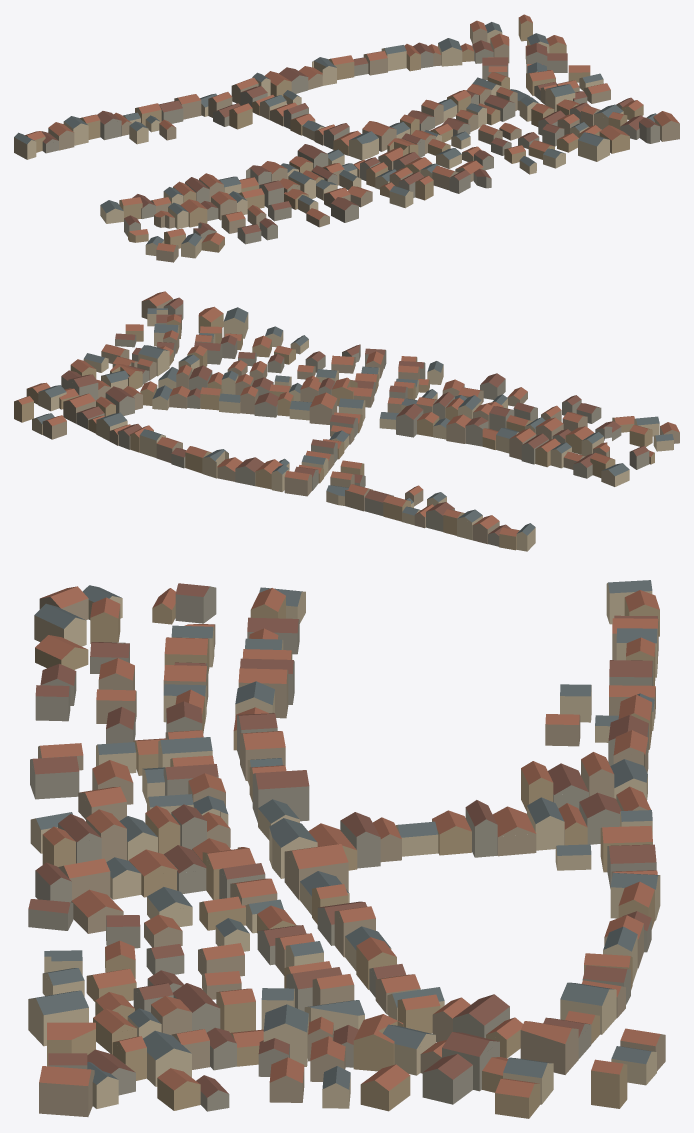
3 views of the same model, one above another, from view 1: azimuth 30°, elevation 25°; view 2: azimuth 150°, elevation 25°; view 3: azimuth 270°, elevation 25° (orthographic). The views are drawn at different scales.
Visible parts, largest first — view 1: C_2_3; view 2: C_2_3; view 3: C_2_3.
Boxes of the visible parts, bbox=[...] form: C_2_3: bbox=[14, 14, 679, 262]; C_2_3: bbox=[14, 291, 679, 551]; C_2_3: bbox=[28, 580, 665, 1118].
Size of the model in its own units: 364 by 14.31 by 192.
